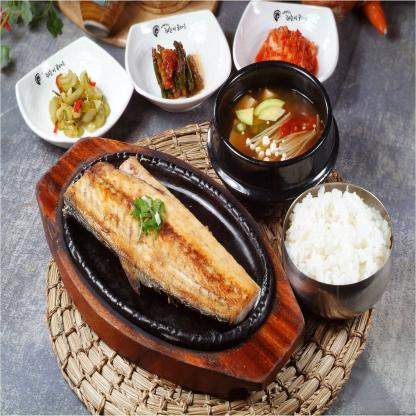Peixe: (61, 156, 261, 333)
